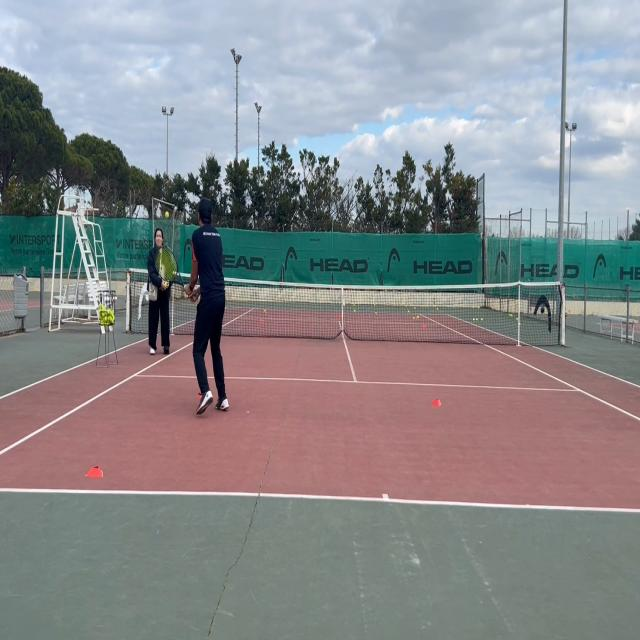ball: (165, 211, 169, 219), (481, 317, 483, 322), (264, 309, 266, 313), (354, 310, 356, 314), (353, 303, 355, 307), (405, 304, 407, 308), (408, 310, 410, 314), (413, 316, 415, 320), (417, 315, 419, 319), (436, 307, 438, 311), (473, 318, 475, 322), (476, 318, 478, 322), (472, 305, 474, 309), (509, 314, 511, 318), (511, 314, 513, 318), (516, 318, 518, 322), (375, 312, 377, 315), (374, 303, 376, 306), (414, 307, 416, 310), (478, 306, 480, 309)
